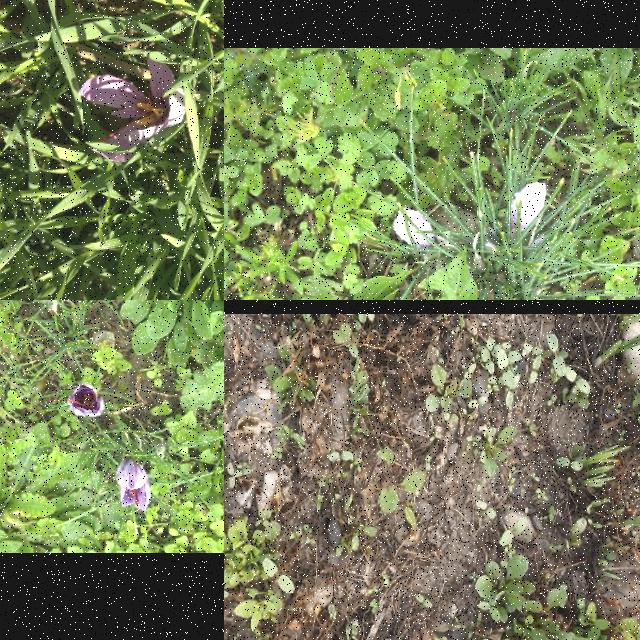flower: (78, 56, 184, 160), (502, 182, 548, 240), (392, 208, 436, 250), (120, 462, 152, 510), (69, 384, 105, 418)
